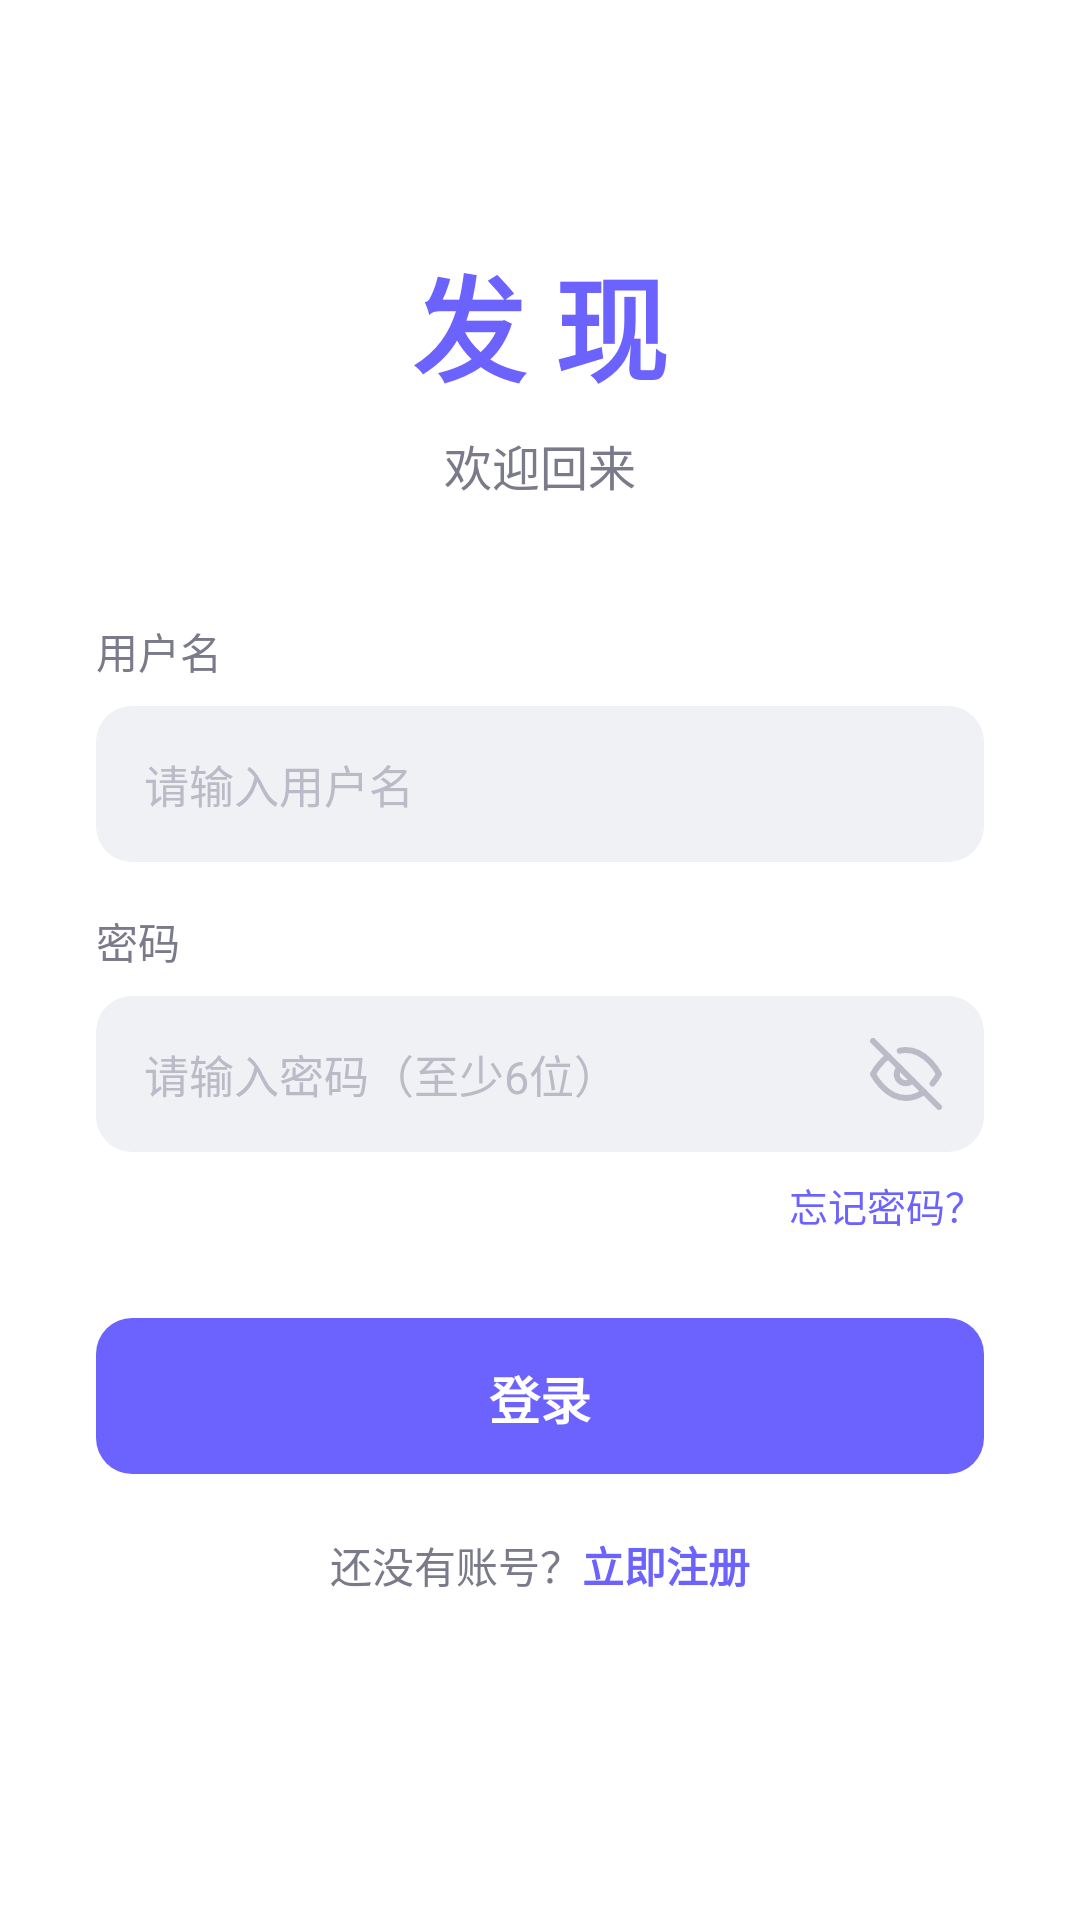

Screen size 1080px×1920px. Icon name, then its center in pixels as [x,y]:
eye close: [906,1074]
